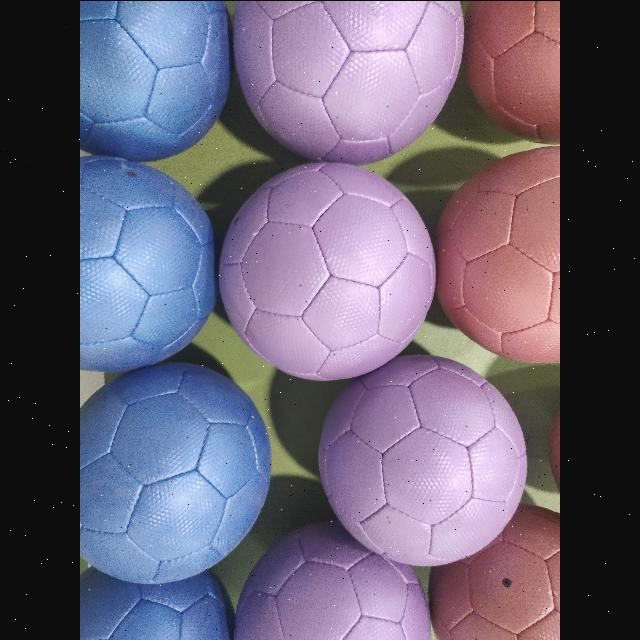B: (80, 362, 272, 582), (80, 156, 216, 370), (80, 0, 230, 160), (80, 566, 230, 640)
P: (220, 162, 436, 378), (319, 353, 526, 564), (234, 0, 464, 164), (235, 528, 430, 640)
R: (436, 146, 560, 362), (430, 504, 560, 640), (464, 0, 560, 142)
